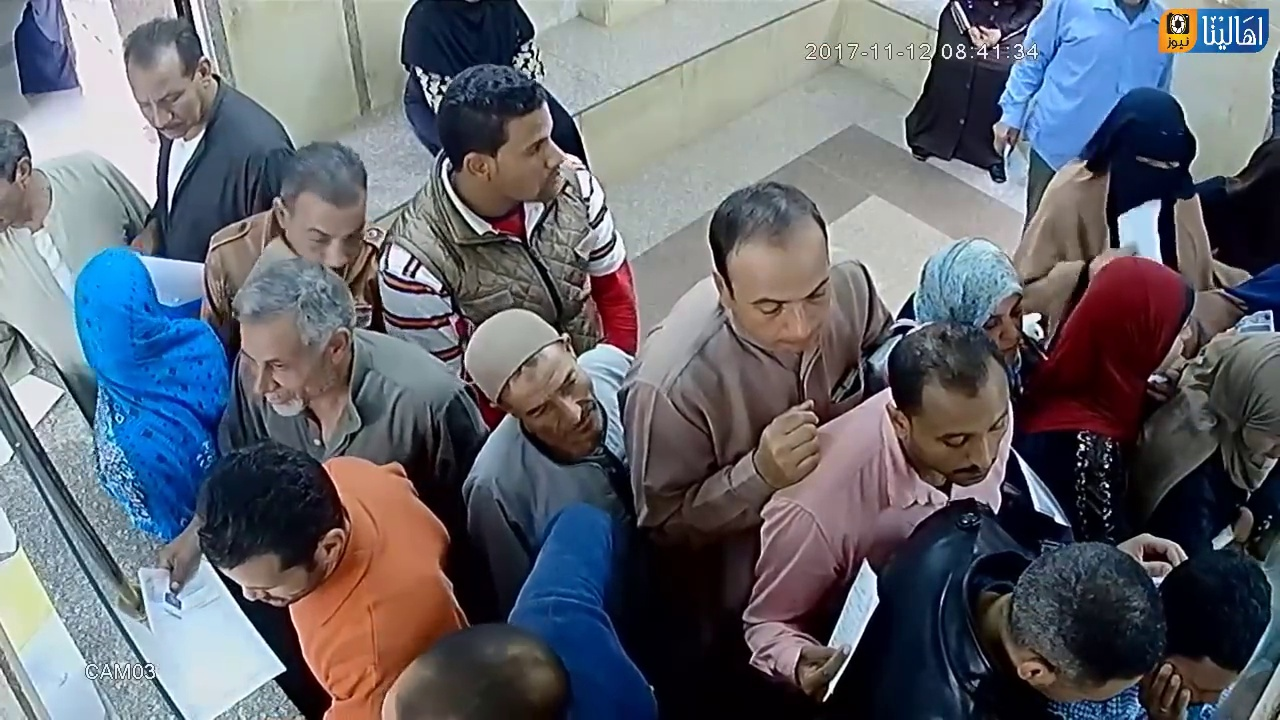face: (735, 257, 825, 366), (924, 383, 1010, 484), (233, 299, 306, 417), (515, 364, 610, 448), (492, 111, 561, 211), (277, 192, 354, 274), (136, 50, 186, 144), (970, 289, 1022, 354)
